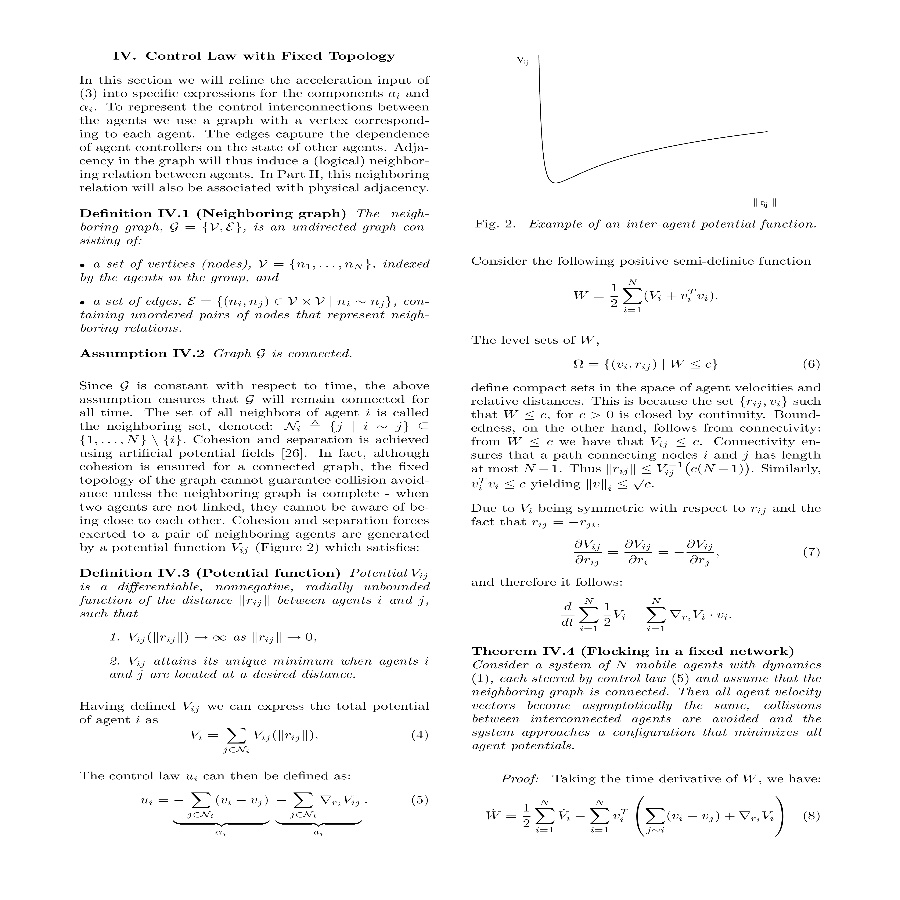eq: (485, 792, 787, 839), (135, 788, 364, 839), (561, 594, 735, 635), (571, 277, 715, 316), (571, 534, 716, 569), (186, 724, 317, 755), (127, 629, 316, 649), (571, 356, 721, 373)
